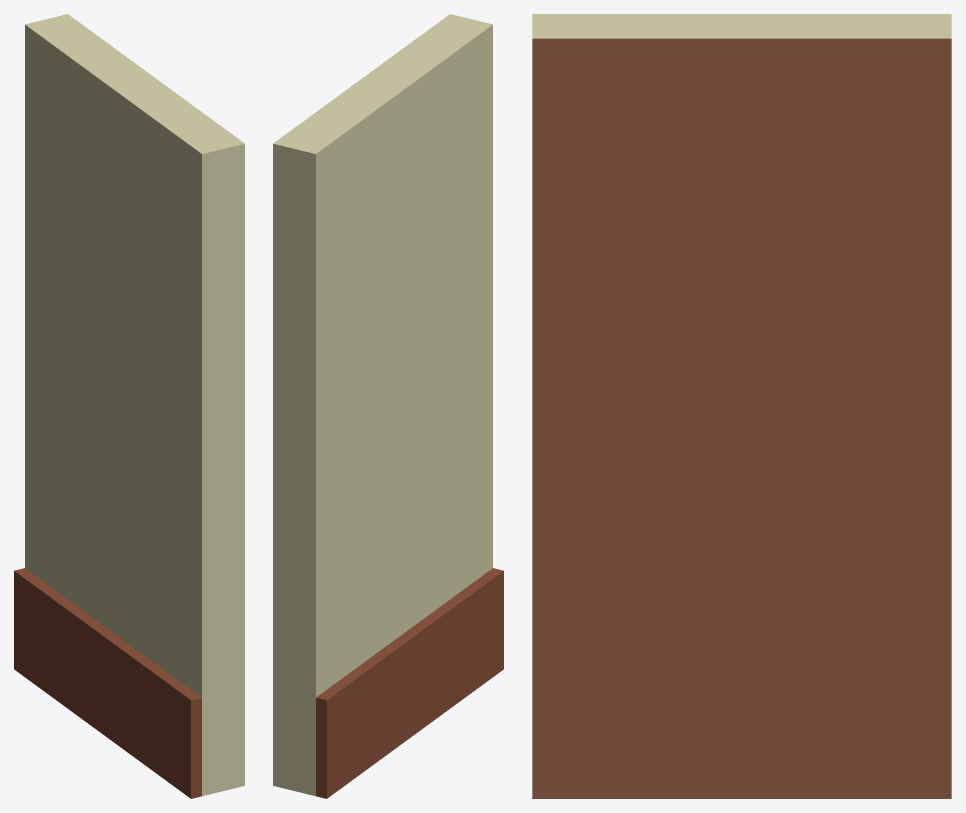
Rendered from Wall1.fbx.
The picture shows the model from 3 angles, left to right: view 1: azimuth 30°, elevation 25°; view 2: azimuth 150°, elevation 25°; view 3: azimuth 270°, elevation 25°; orthographic projection. The views are drawn at different scales.
Parts seen in each view (by area): view 1: Cube.001; view 2: Cube.001; view 3: Cube.001.
Boxes of the visible parts, x1,y1,x2,y2 form: Cube.001: (14,14,244,798); Cube.001: (273,14,503,798); Cube.001: (532,14,951,798).
Bounding box in the file's own units: 17.55 × 200 × 100.
